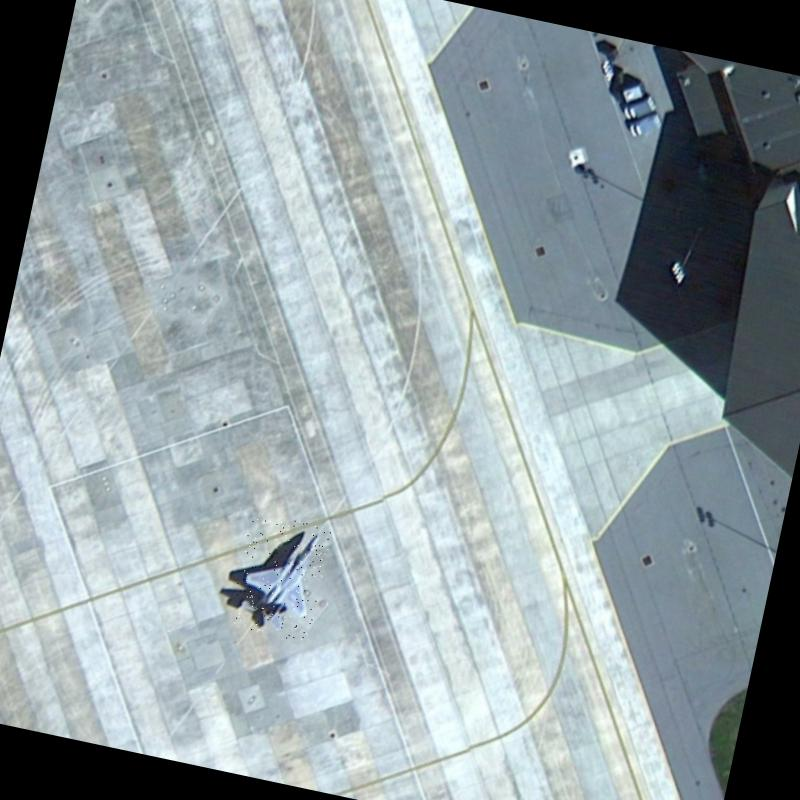A13: (228, 512, 333, 643)
